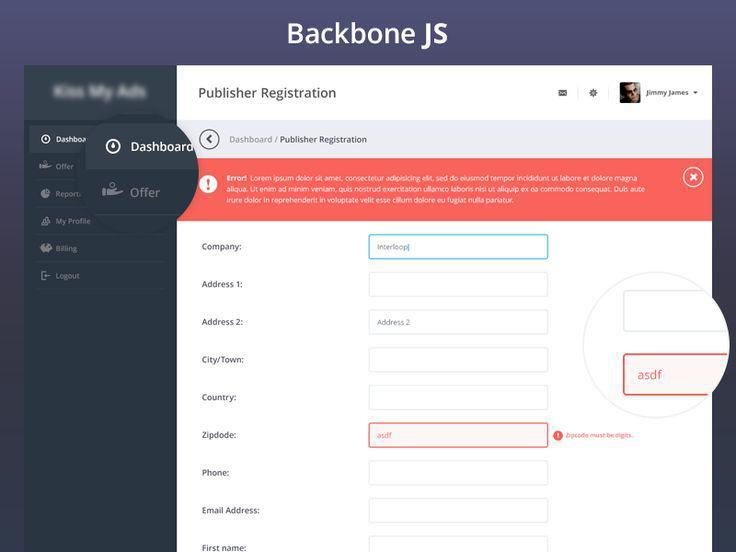icon: (198, 130, 223, 153), (587, 87, 603, 102), (557, 88, 571, 102)
input: (371, 235, 548, 261), (370, 386, 547, 412), (369, 273, 549, 298), (369, 425, 549, 450), (371, 310, 548, 335), (369, 501, 548, 525), (369, 462, 548, 485), (370, 350, 551, 370), (370, 539, 548, 552)
label: (202, 351, 250, 369), (201, 315, 245, 331), (203, 429, 241, 446), (202, 466, 236, 485), (200, 241, 246, 255), (203, 507, 263, 517), (200, 393, 239, 407), (199, 278, 245, 289), (201, 544, 254, 552)
